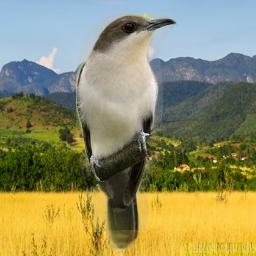Cuckoo: (76, 14, 178, 253)
